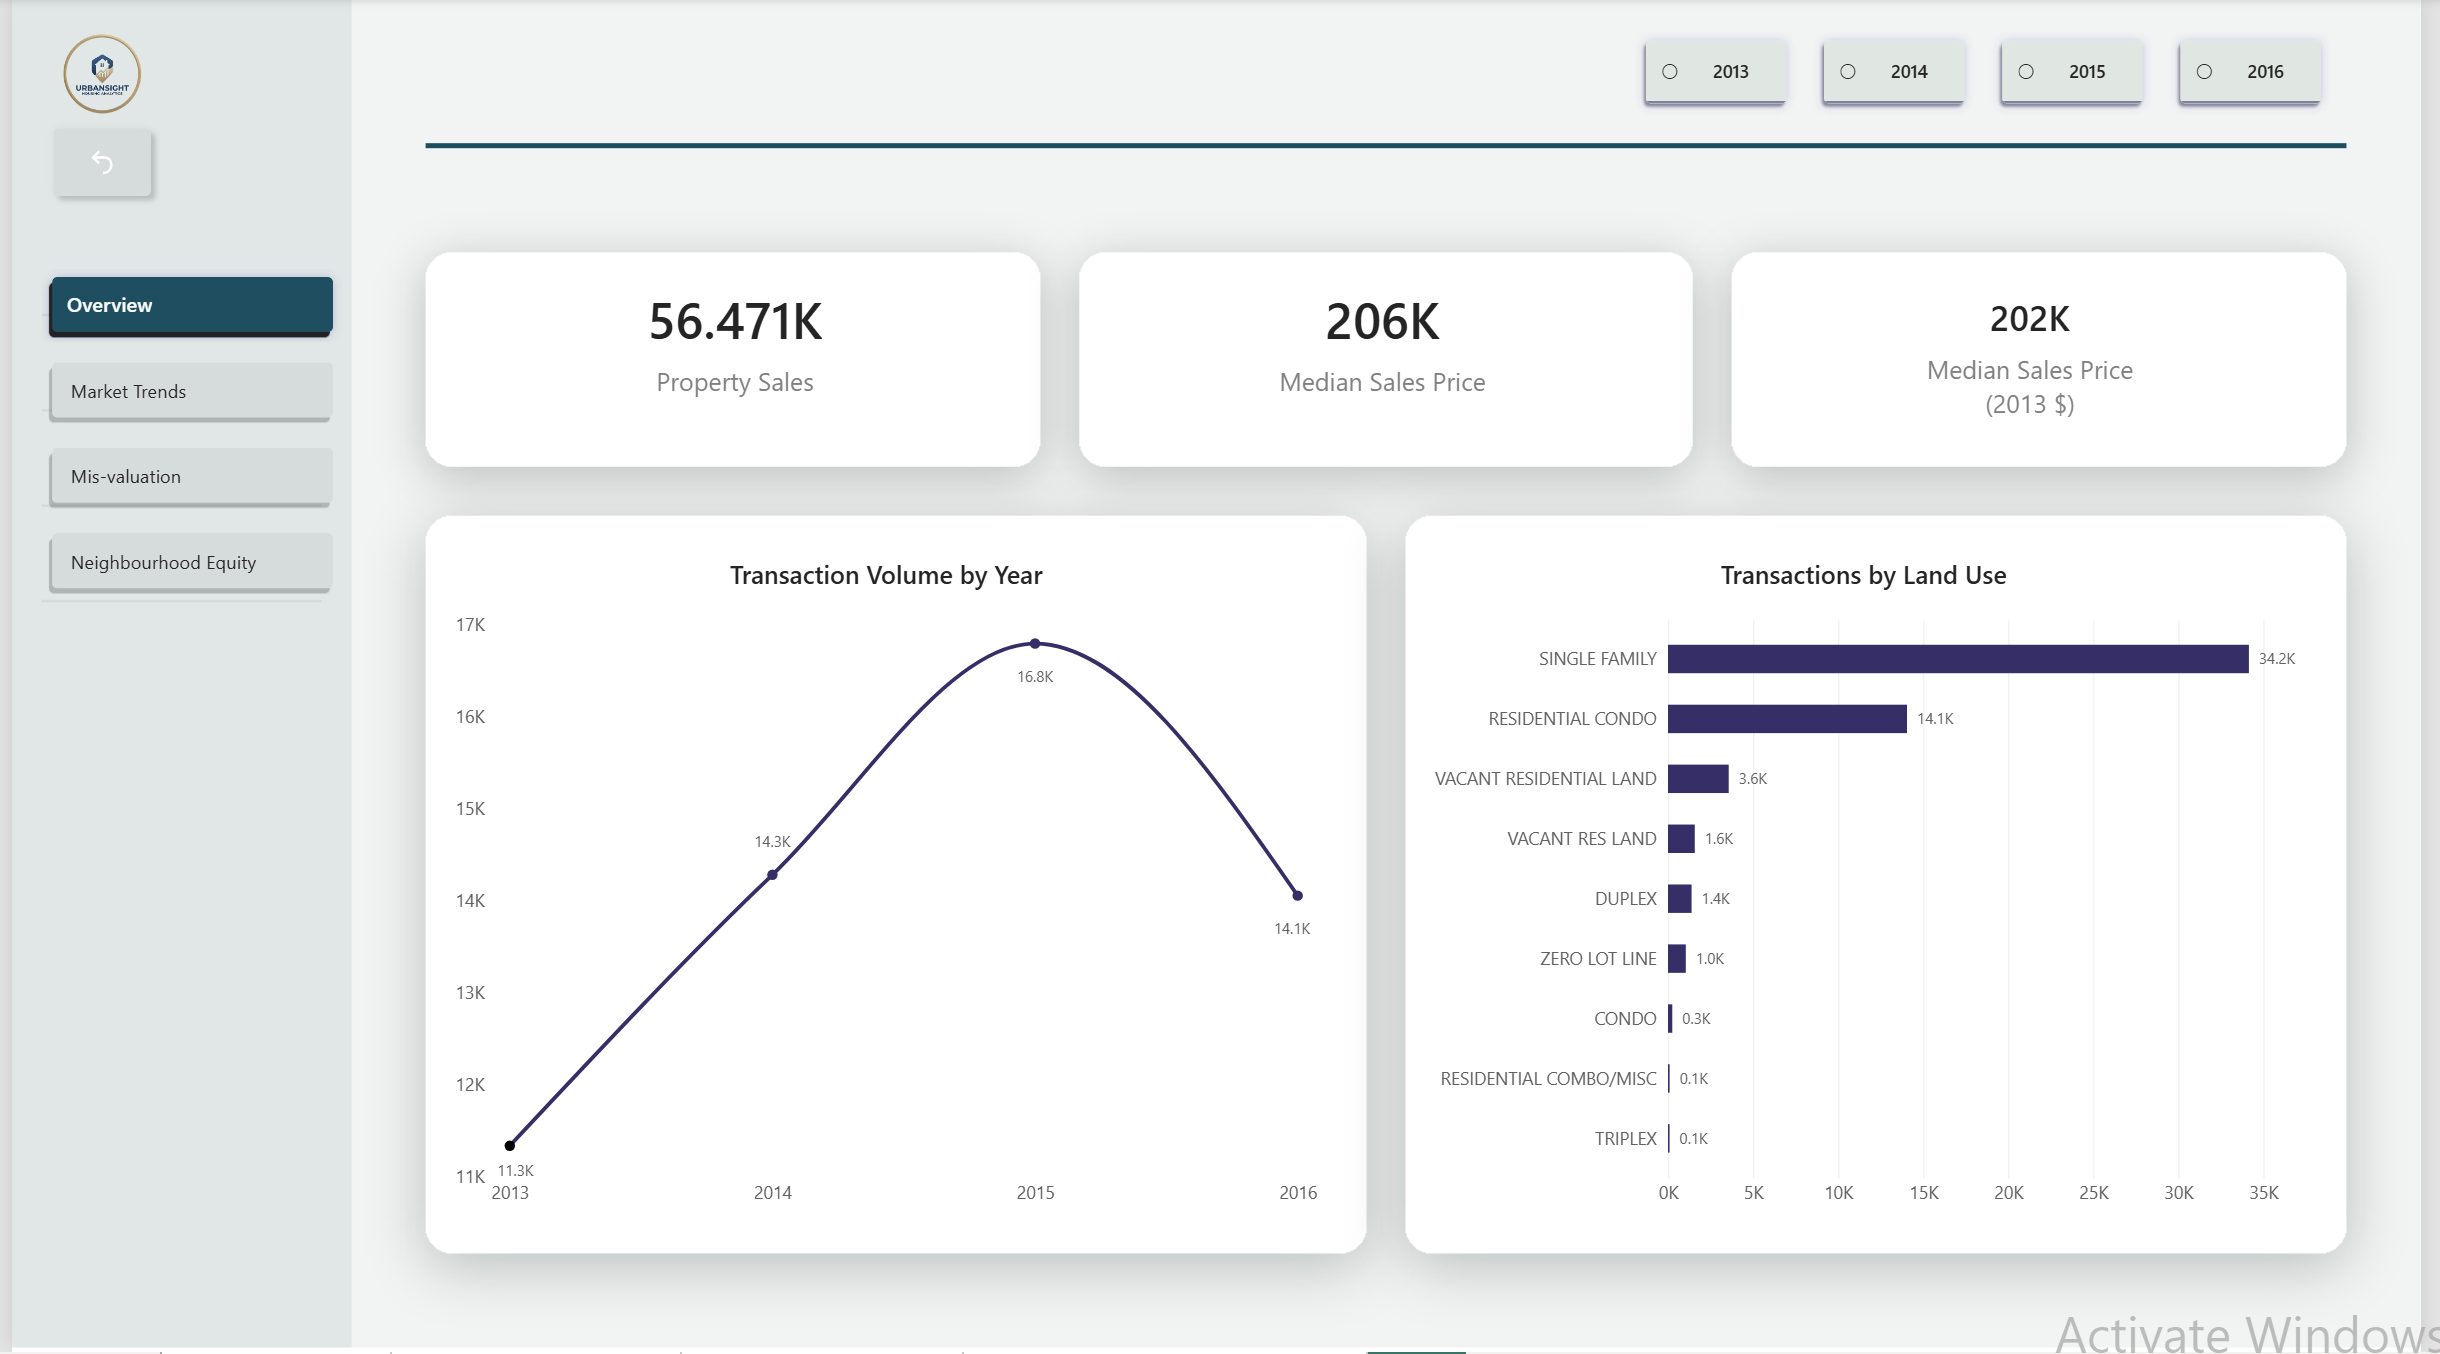

This screenshot's page, from the dashboard's own definition file:
{"tool":"powerbi","page":{"name":"Overview","canvas":[1920,1080],"ordinal":0},"visuals":[{"type":"image","title":"Logo","box":[0,0,144,120],"z":0},{"type":"cardVisual","fields":{"Data":["Median(overview_trends.sale_price)"]},"box":[972,192,240,168],"z":1000},{"type":"lineChart","title":"Transaction Volume by Year","fields":{"Category":["overview_trends.sale_year"],"Y":["CountNonNull(overview_trends.parcel_id)"]},"box":[336,432,720,552],"z":2000},{"type":"cardVisual","fields":{"Data":["CountNonNull(overview_trends.parcel_id)"]},"box":[456,192,240,168],"z":3000},{"type":"barChart","title":"Transactions by Land Use","fields":{"Category":["overview_trends.land_use"],"Y":["CountNonNull(overview_trends.parcel_id)"]},"box":[1104,432,744,552],"z":4000},{"type":"cardVisual","fields":{"Data":["Median(overview_trends.sale_price_real)"]},"box":[1488,192,240,168],"z":5000},{"type":"pageNavigator","title":"Menu Buttons","box":[24,216,240,264],"z":6000},{"type":"advancedSlicerVisual","fields":{"Values":["overview_trends.sale_year"]},"box":[1272,24,600,72],"z":6001},{"type":"actionButton","box":[24,96,96,72],"z":6002}]}

Visuals, with their boxes on the page's 1920x1080 design canvas (x1, y1, x2, y2). These are canvas units, not pixel positions in the 2440x1354 screenshot, which may show the page scaled, cropped or inside an application window:
"Logo" image: 0,0,144,120
cardVisual - Median(overview_trends.sale_price): 972,192,1212,360
"Transaction Volume by Year" lineChart: 336,432,1056,984
cardVisual - CountNonNull(overview_trends.parcel_id): 456,192,696,360
"Transactions by Land Use" barChart: 1104,432,1848,984
cardVisual - Median(overview_trends.sale_price_real): 1488,192,1728,360
"Menu Buttons" pageNavigator: 24,216,264,480
advancedSlicerVisual - overview_trends.sale_year: 1272,24,1872,96
actionButton: 24,96,120,168
